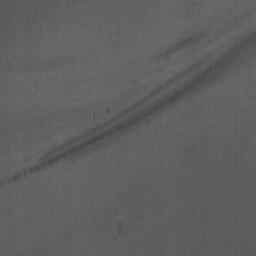Crease: (7, 32, 256, 183), (156, 32, 207, 60)
